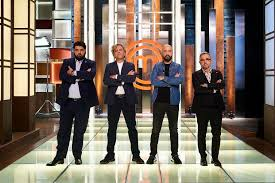Bad: (46, 41, 144, 165), (100, 44, 184, 165), (146, 44, 226, 167)
